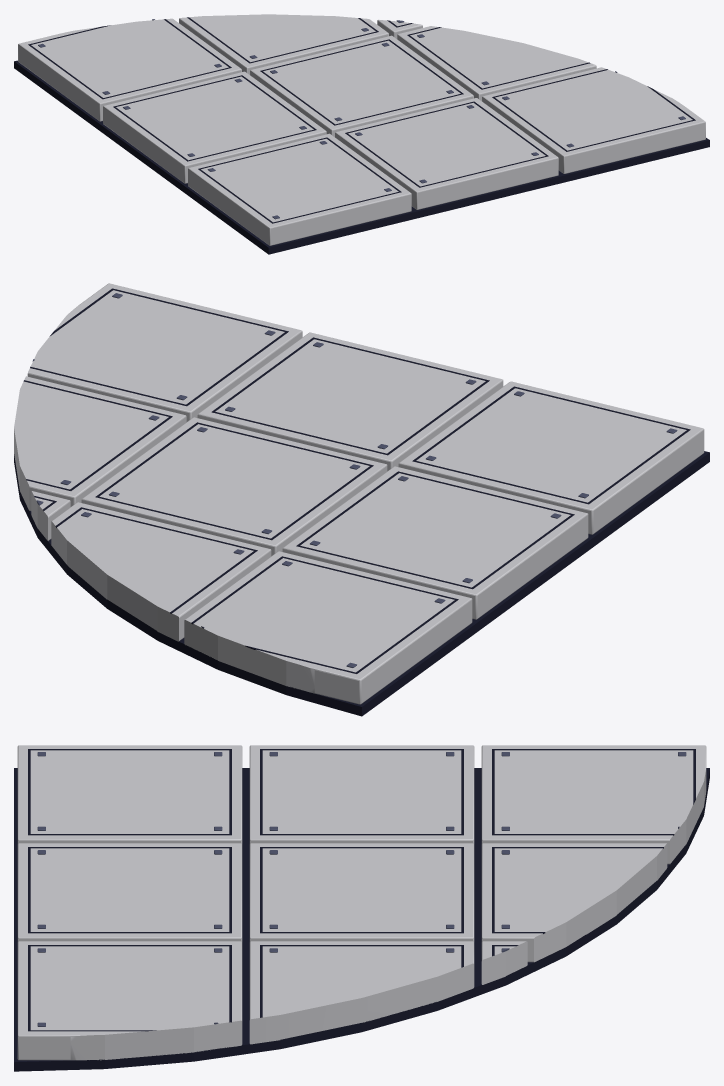
Rendered from roof.arc3.light.glb.
3 renders of one model, top to bottom at view 1: azimuth 30°, elevation 25°; view 2: azimuth 150°, elevation 25°; view 3: azimuth 270°, elevation 25°, orthographic. The views are drawn at different scales.
Visible parts, largest first — view 1: GEO-roof.arc3.light; view 2: GEO-roof.arc3.light; view 3: GEO-roof.arc3.light.
Boxes of the visible parts, x1=… form: GEO-roof.arc3.light: x1=14, y1=14, x2=709, y2=254; GEO-roof.arc3.light: x1=14, y1=283, x2=709, y2=716; GEO-roof.arc3.light: x1=14, y1=745, x2=709, y2=1071.
Bounding box in the file's own units: 3 × 0.17 × 3.
